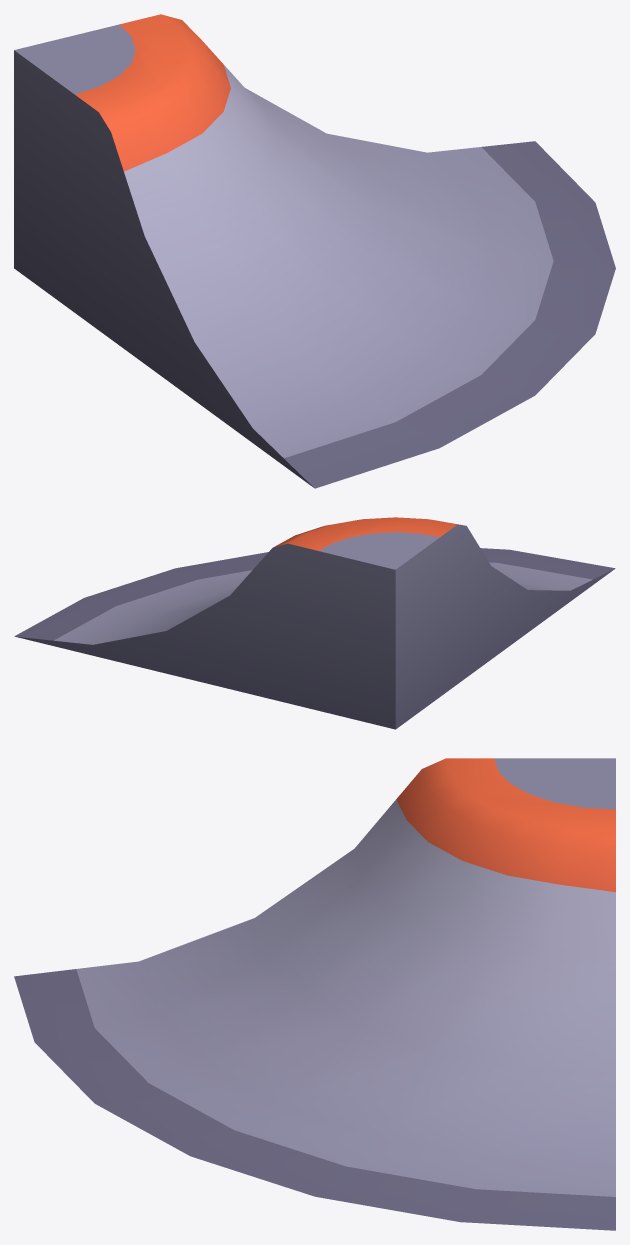
Rendered from bowl-corner-outer-low.fbx.
The picture shows the model from 3 angles, top to bottom: view 1: azimuth 30°, elevation 25°; view 2: azimuth 150°, elevation 25°; view 3: azimuth 270°, elevation 25°; orthographic projection. The views are drawn at different scales.
Parts seen in each view (by area): view 1: bowl-corner-outer-low; view 2: bowl-corner-outer-low; view 3: bowl-corner-outer-low.
Boxes of the visible parts, x1,y1,x2,y2 form: bowl-corner-outer-low: (14,14,615,488); bowl-corner-outer-low: (14,517,615,729); bowl-corner-outer-low: (14,758,615,1230).
Size of the model in its own units: 100 by 40 by 100.
1 material, 1 textured.
